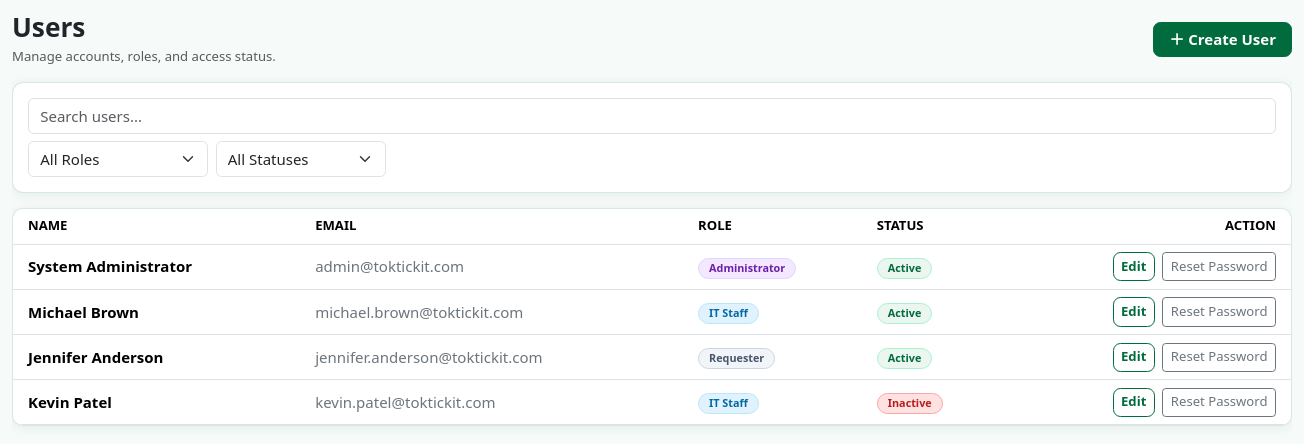
Scenario: UserManagement Screen (/admin/users) › filters the directory by role
Check: the text "System Administrator" is shown, box [13,244,308,289]
Select "Requester" in the dropdown named "Filter by role". click: (118, 159)
box: [28,141,208,177]
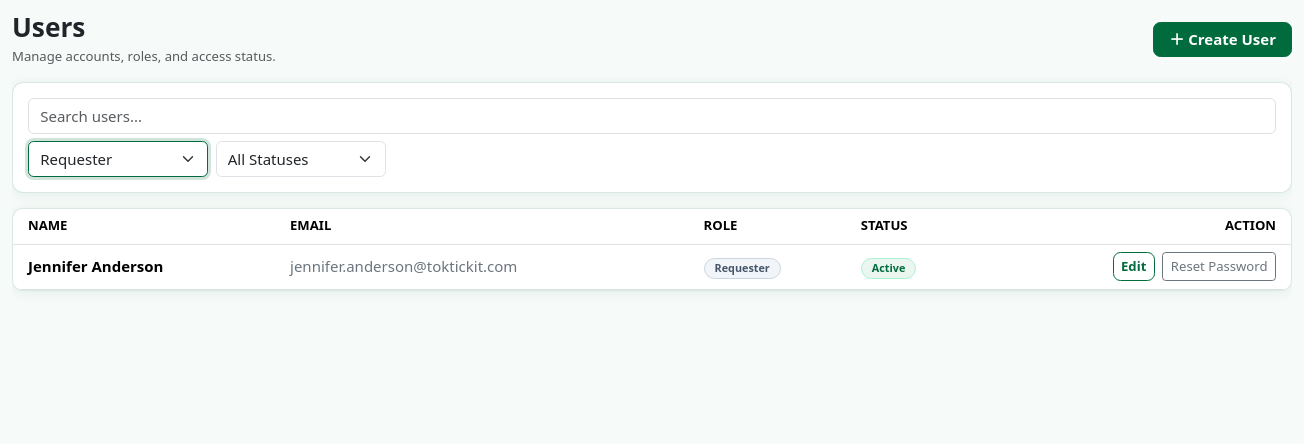
Check: the text "Jennifer Anderson" is shown, box [13,244,282,289]
Check: the number of rows with test id "user-row" is 1, box [13,244,1291,289]
